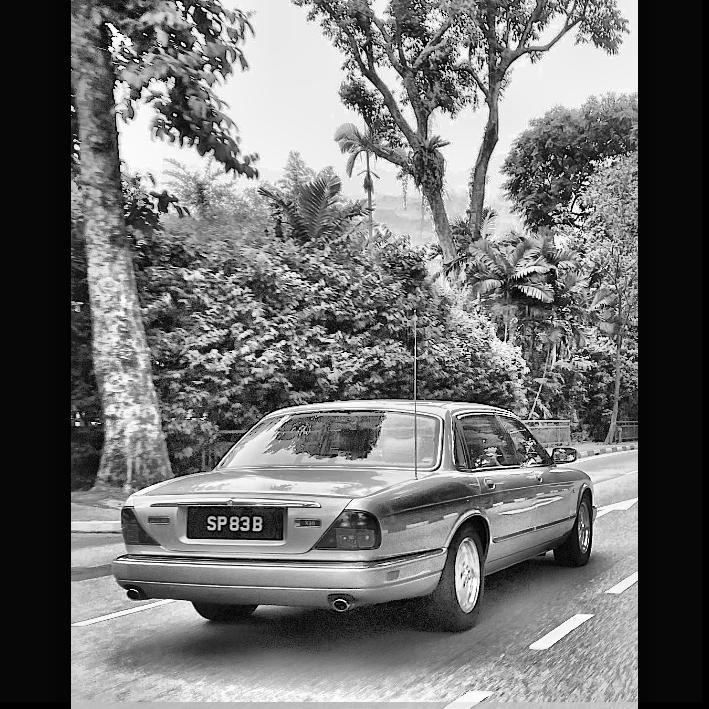License-Plates: (188, 508, 280, 538)
